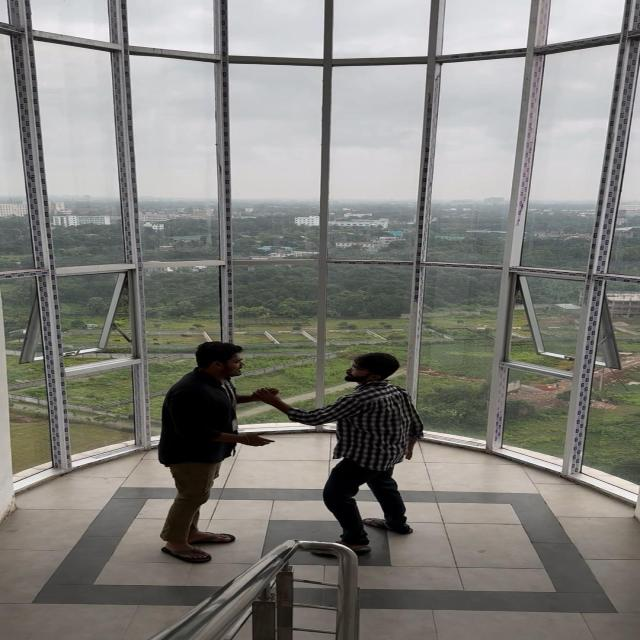fight: (90, 304, 484, 574)
